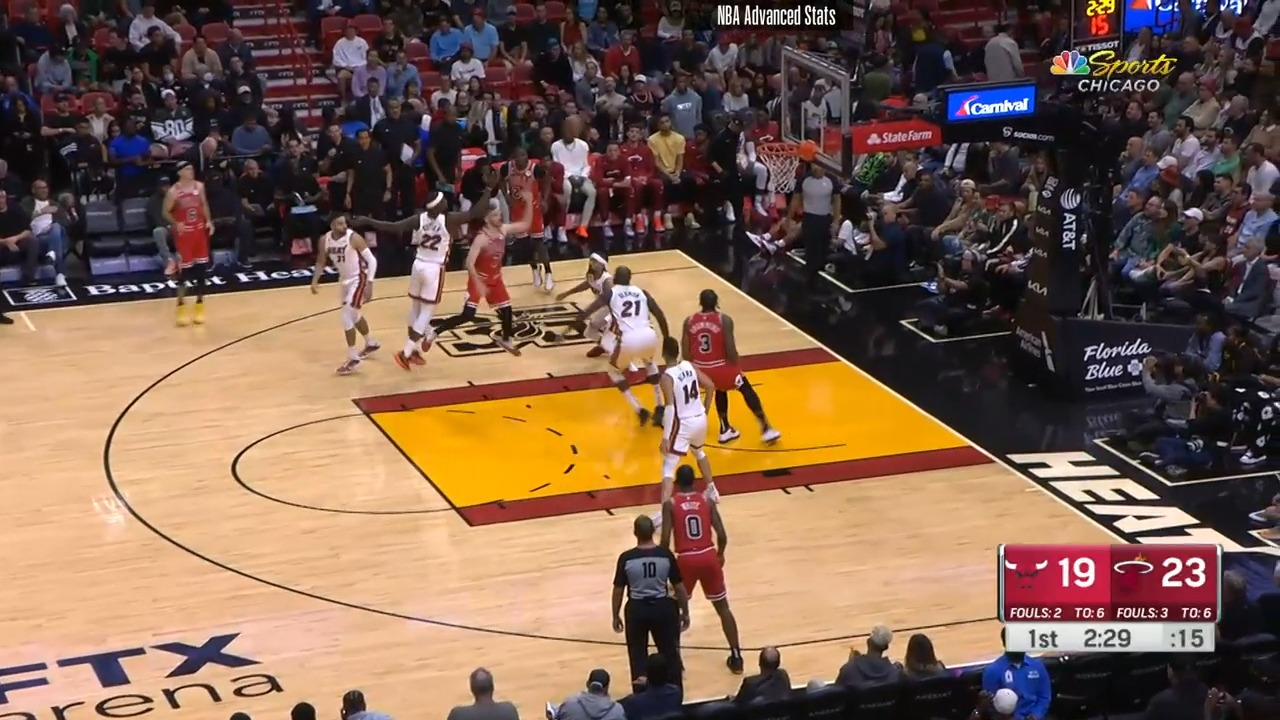net: (752, 132, 820, 198)
player: (662, 456, 749, 683), (676, 284, 784, 450), (391, 183, 474, 380), (651, 339, 723, 526), (311, 207, 382, 380), (591, 265, 680, 402), (498, 147, 572, 296), (154, 162, 216, 332), (440, 210, 516, 343), (550, 254, 619, 363)
referee: (614, 516, 699, 699), (794, 157, 845, 288)
